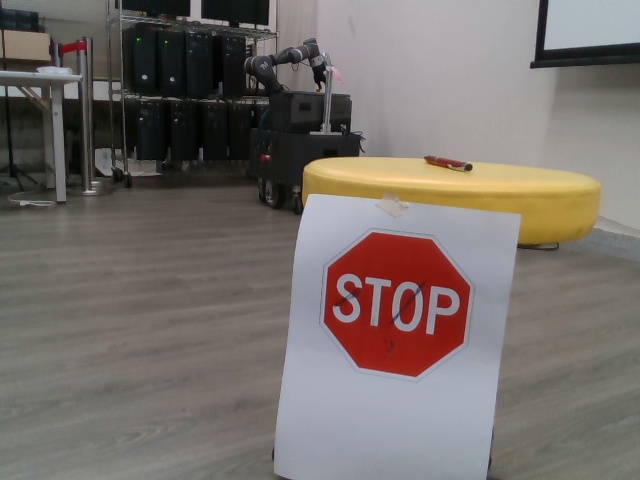stop: (317, 227, 477, 382)
